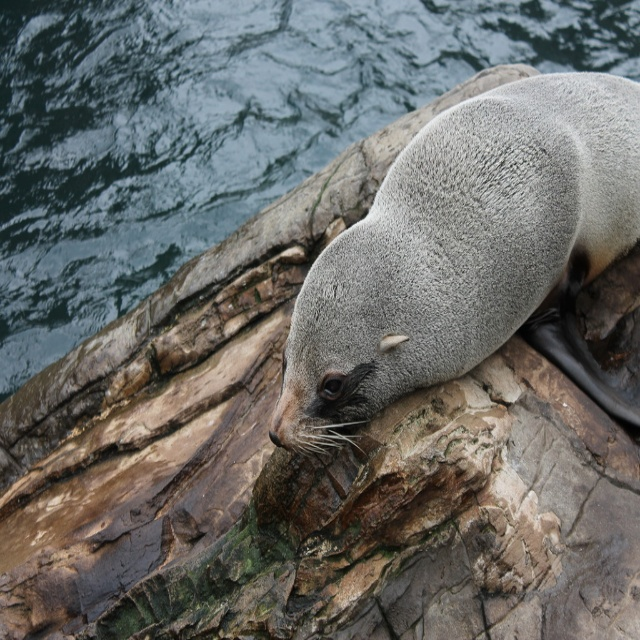Harbor seal: (263, 74, 640, 462)
